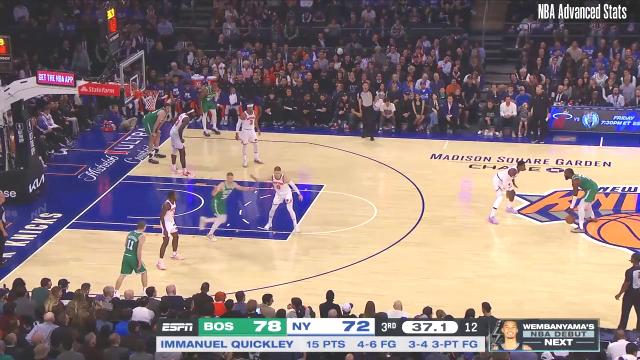free_adx: (318, 179, 332, 190)
free_asx: (280, 233, 294, 246)
free_bdx: (122, 169, 134, 179)
free_bsx: (56, 224, 72, 234)
mid_dx: (442, 135, 458, 147)
referee: (612, 252, 640, 332), (356, 80, 378, 142), (0, 187, 12, 270)
team: (200, 171, 256, 241), (112, 220, 152, 298), (561, 166, 599, 234), (138, 104, 172, 162), (198, 80, 224, 136)
team1: (252, 166, 304, 234), (489, 160, 527, 226), (156, 192, 186, 273), (236, 100, 264, 168), (168, 108, 196, 176)
timer: (408, 321, 454, 335)
